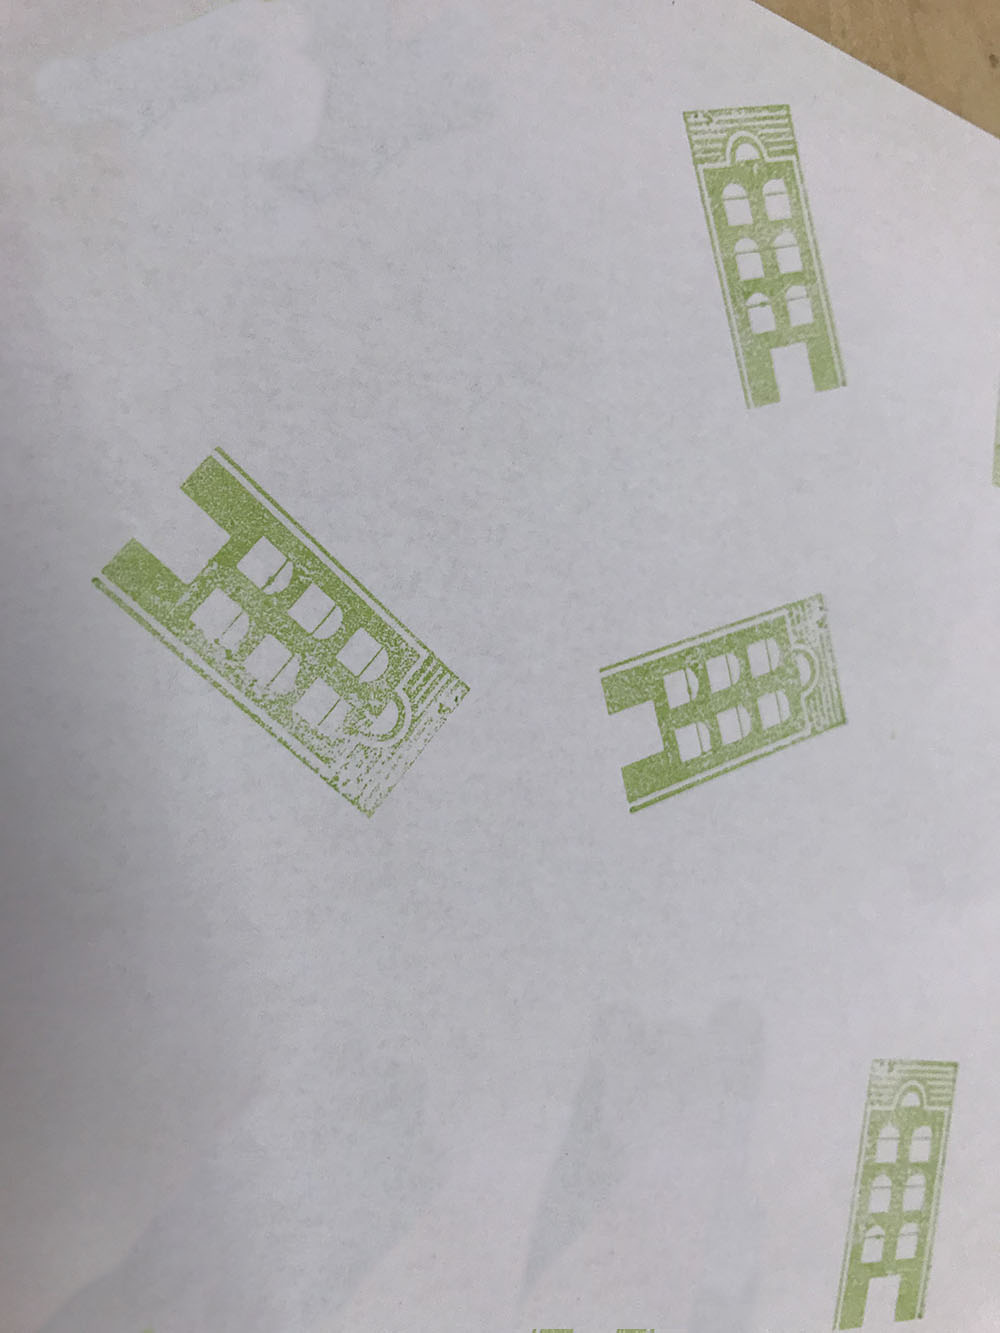build: (49, 400, 489, 867), (563, 564, 879, 860), (654, 68, 886, 432), (803, 1032, 984, 1332)
